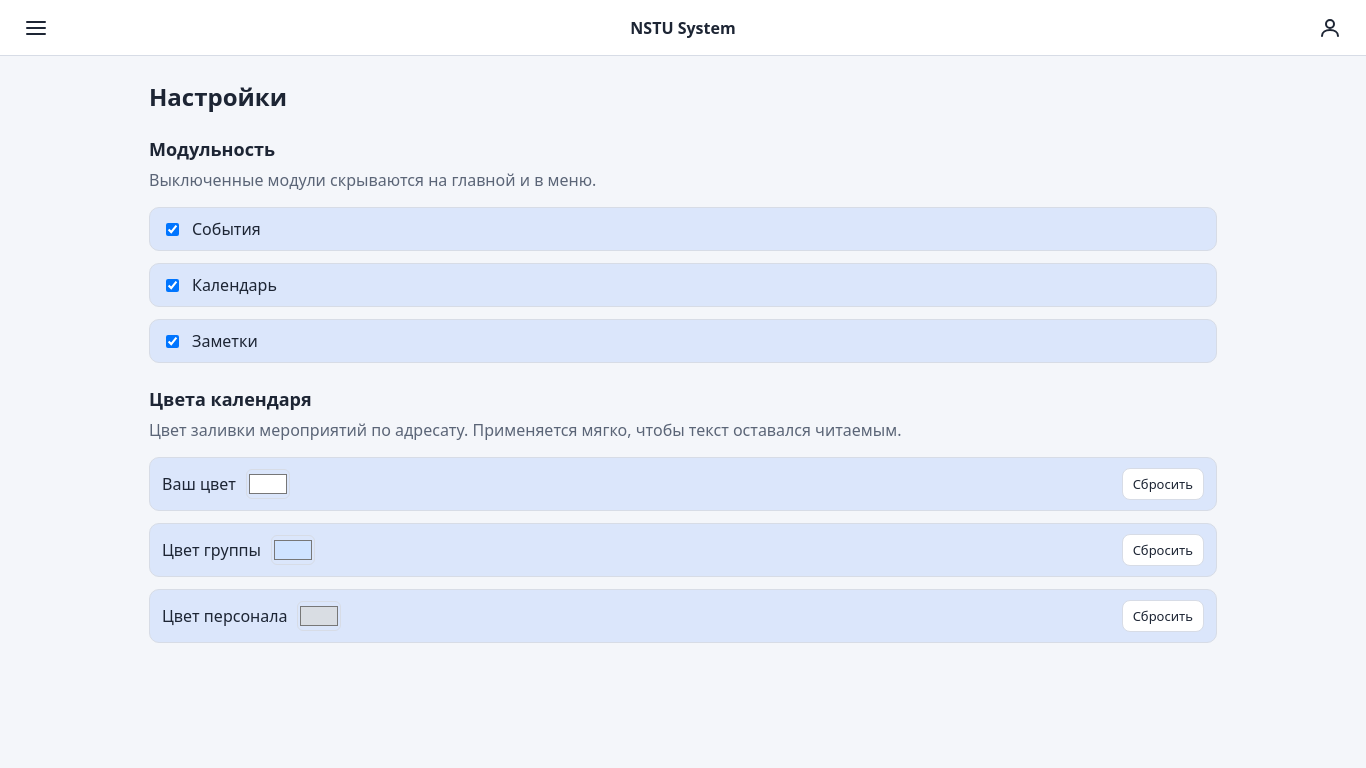
Test: страница «Настройки» › выключение модуля без перезагрузки скрывает его в меню и на главной
The image size is (1366, 768).
Click the checkbox labelled "События".
click(172, 229)  # box left=166, top=222, right=179, bottom=236
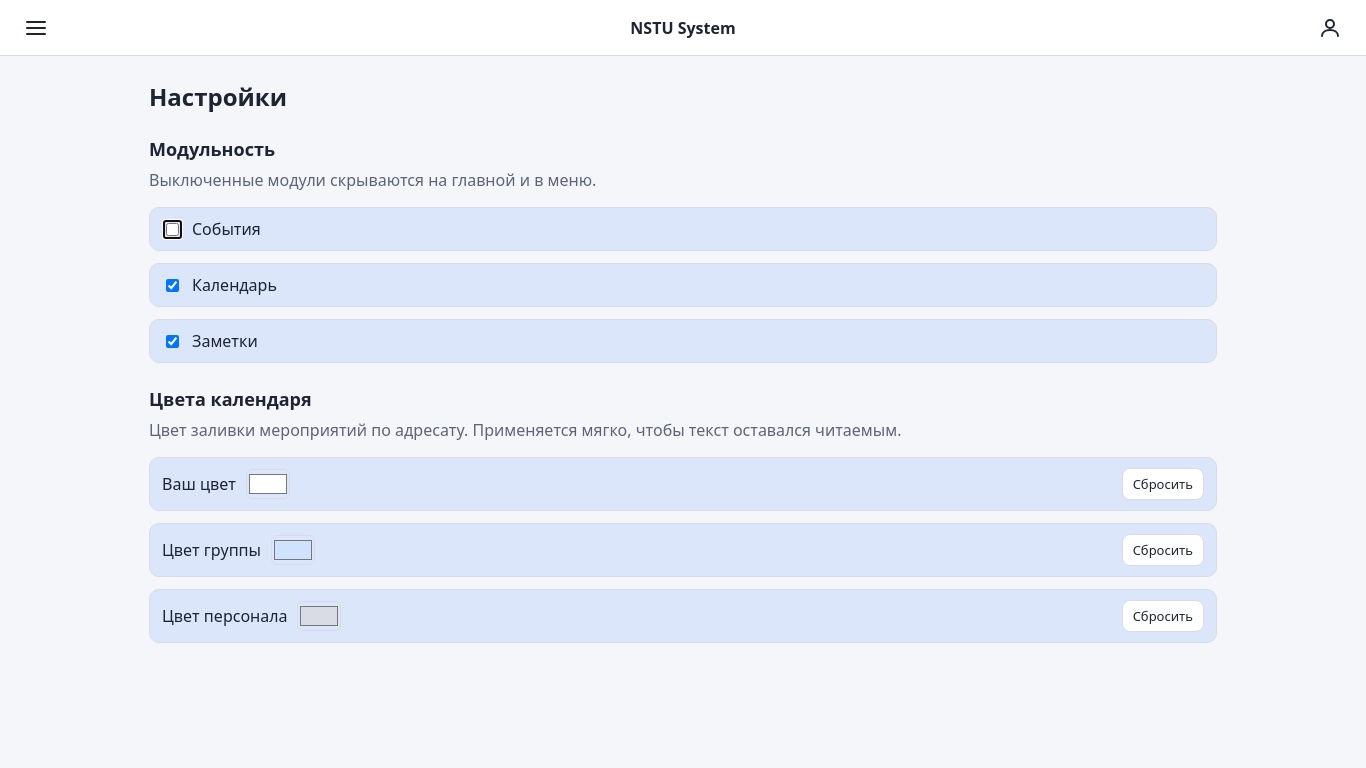
Now the checkbox labelled "События" is not checked, box left=166, top=222, right=179, bottom=236
Click the link "NSTU System".
click(683, 28)  # box left=630, top=16, right=736, bottom=38
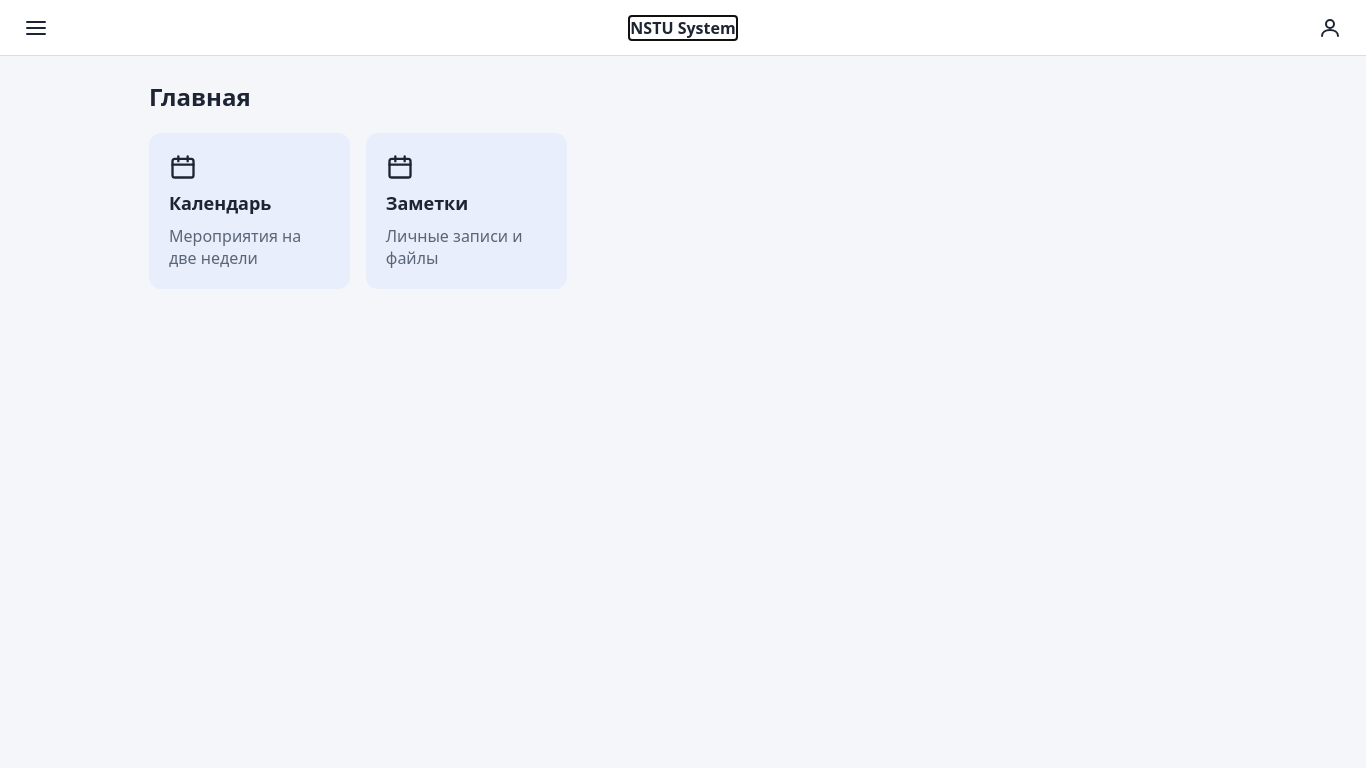
Expected: the text "Календарь" is shown, left=169, top=191, right=271, bottom=215
Now the heading "Главная" is shown, box left=149, top=80, right=251, bottom=113
Now the text "События" is gone
